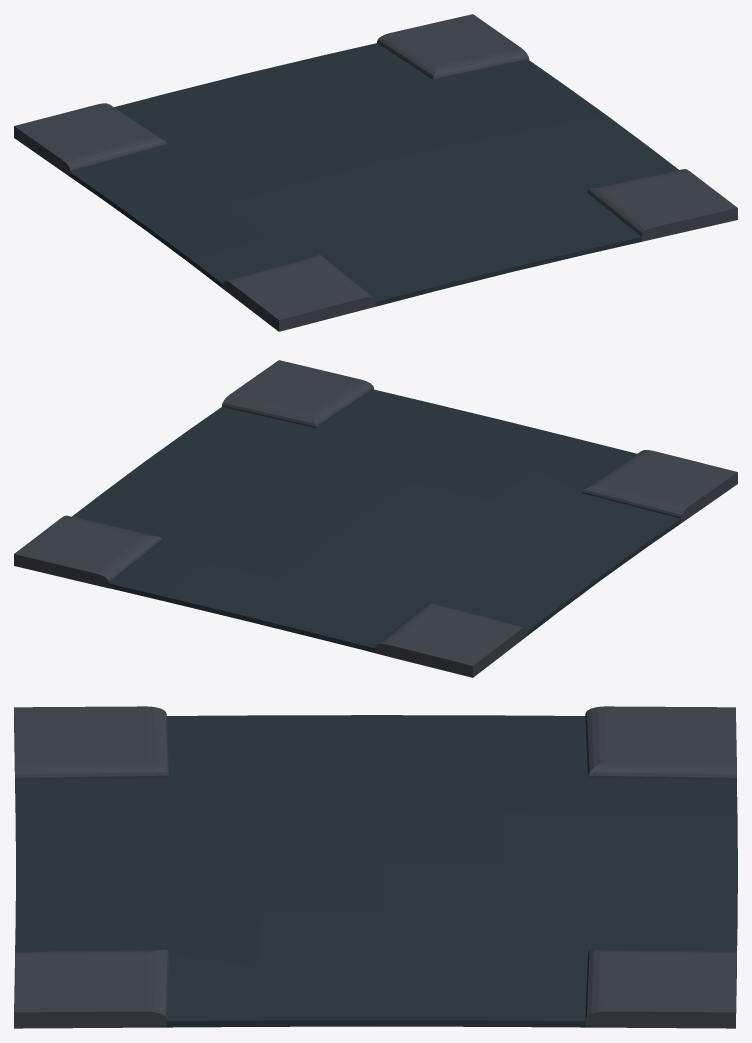
File: Intersection.fbx
3 renders of one model, top to bottom at view 1: azimuth 30°, elevation 25°; view 2: azimuth 150°, elevation 25°; view 3: azimuth 270°, elevation 25°, orthographic. The views are drawn at different scales.
Visible parts, largest first — view 1: Intersection; view 2: Intersection; view 3: Intersection.
Part boxes in pixels (<box>): Intersection: <box>14,14,737,331</box>; Intersection: <box>14,360,737,677</box>; Intersection: <box>14,706,737,1028</box>.
Size of the model in its own units: 602 by 18.51 by 602.
